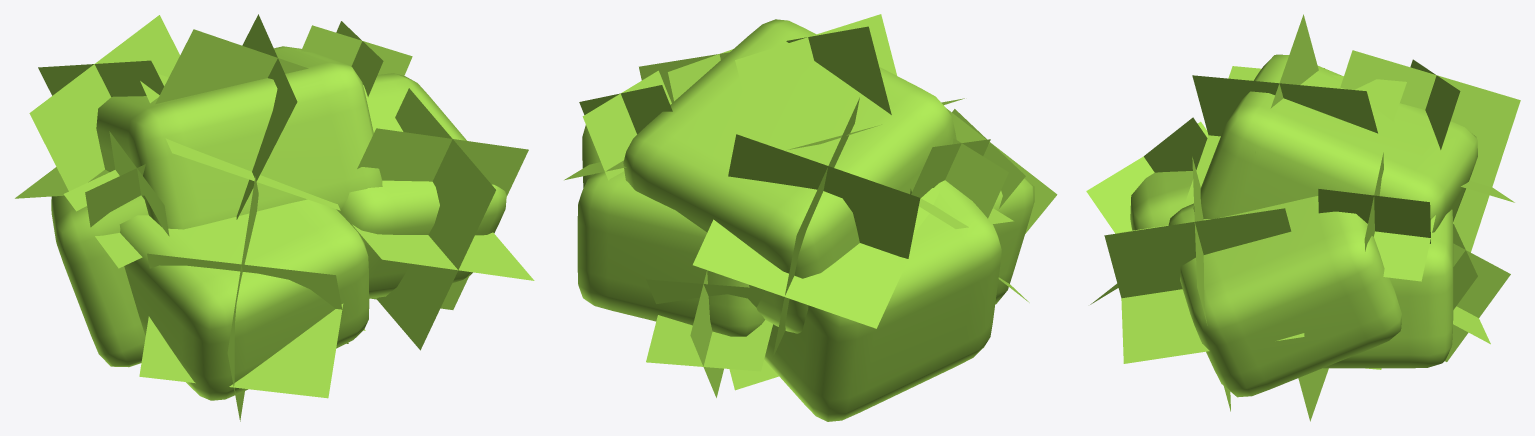
The model's file is Foliage05.fbx.
3 renders of one model, left to right at view 1: azimuth 30°, elevation 25°; view 2: azimuth 150°, elevation 25°; view 3: azimuth 270°, elevation 25°, orthographic. The views are drawn at different scales.
Visible parts, largest first — view 1: Foliage05; view 2: Foliage05; view 3: Foliage05.
Boxes of the visible parts, x1,y1,x2,y2 form: Foliage05: (15,14,534,421); Foliage05: (564,14,1057,421); Foliage05: (1086,14,1520,421).
Size of the model in its own units: 26.1 by 22.45 by 24.98.
